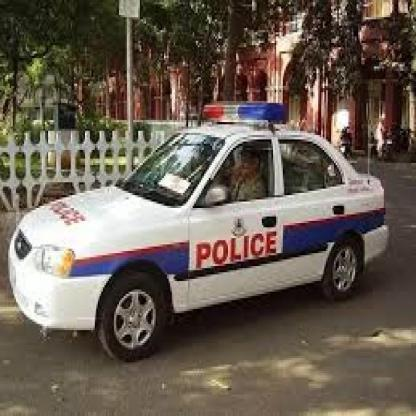priority: (5, 93, 395, 368)
